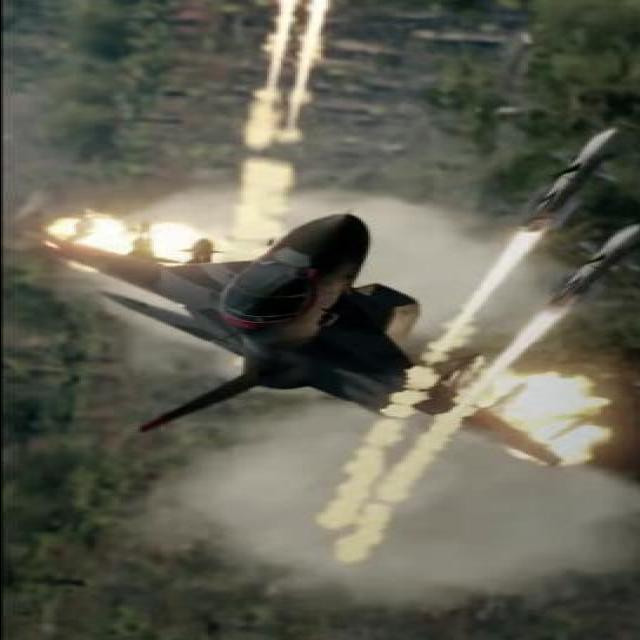missile: (522, 121, 620, 232), (550, 228, 640, 307)
